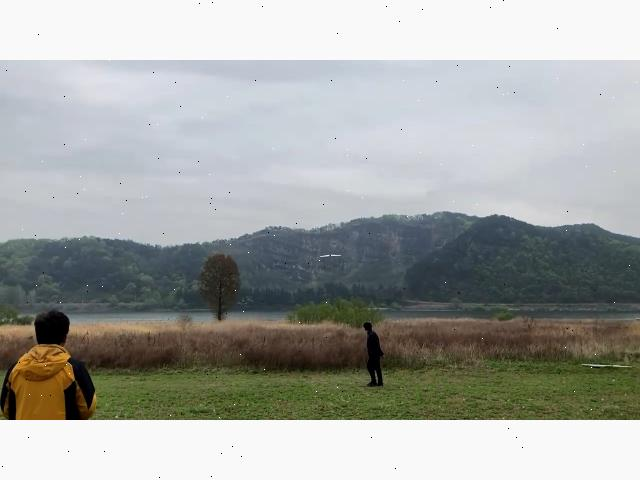Anti-Drone: (321, 254, 341, 257)
